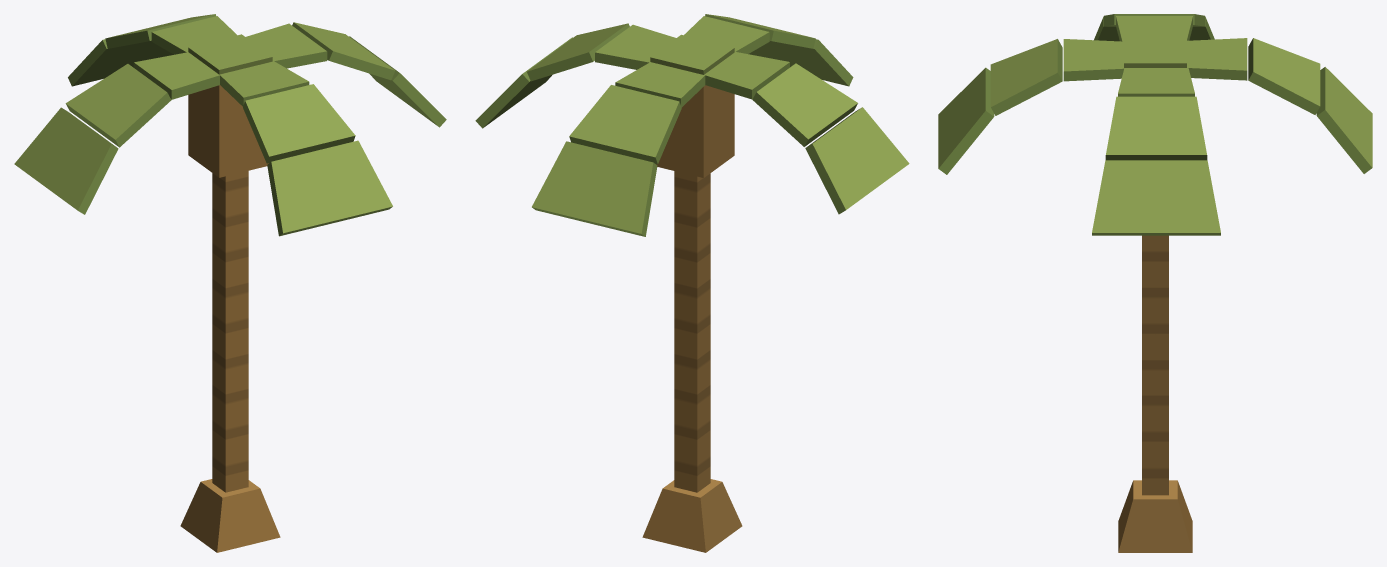
File: SM_Env_Palm_02.gltf
The picture shows the model from 3 angles, left to right: view 1: azimuth 30°, elevation 25°; view 2: azimuth 150°, elevation 25°; view 3: azimuth 270°, elevation 25°; orthographic projection.
Visible parts, largest first — view 1: SM_Env_Palm_02; view 2: SM_Env_Palm_02; view 3: SM_Env_Palm_02.
Boxes of the visible parts, x1,y1,x2,y2 form: SM_Env_Palm_02: (14, 14, 446, 552); SM_Env_Palm_02: (475, 14, 909, 552); SM_Env_Palm_02: (938, 14, 1372, 552).
Size of the model in its own units: 6.22 by 7.7 by 6.22.
Materials: 1 (1 with a texture image).
